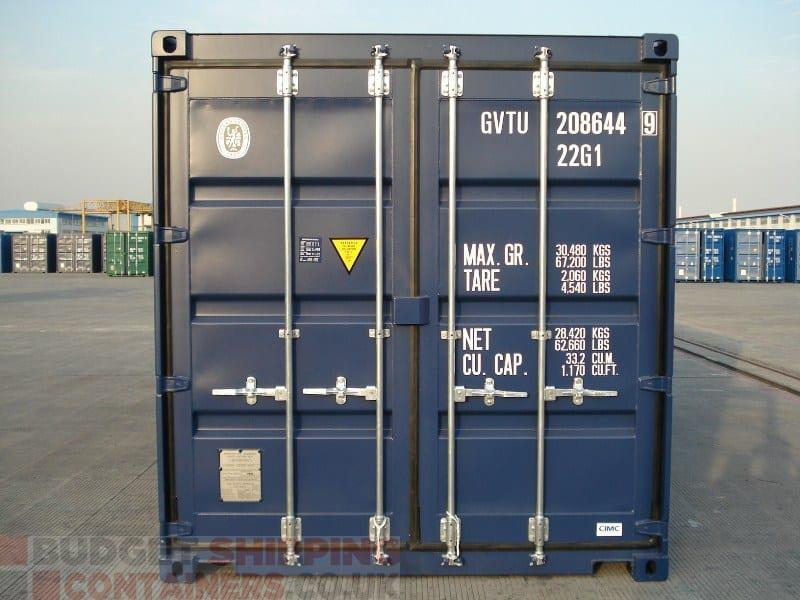ContainerNum: (478, 107, 660, 169)
